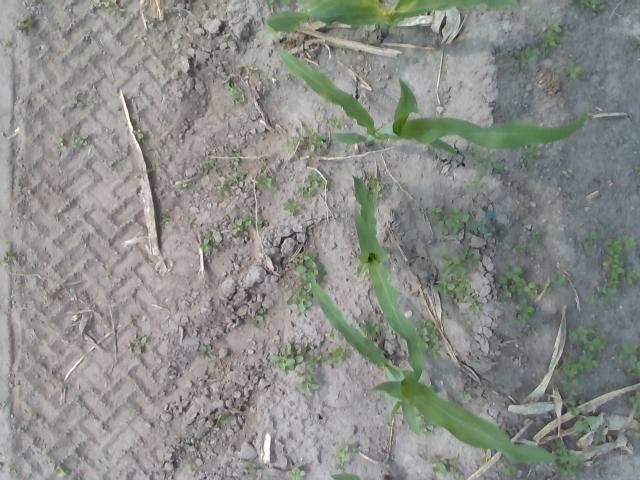Maize: (306, 268, 606, 463), (268, 39, 589, 158), (341, 162, 427, 422), (262, 0, 540, 42), (329, 473, 388, 480)
Weeds: (554, 326, 606, 380), (596, 236, 640, 299), (287, 252, 326, 312), (426, 204, 470, 234), (441, 244, 482, 276), (496, 264, 538, 295), (413, 318, 442, 362), (268, 343, 304, 376), (550, 438, 580, 476), (432, 275, 472, 300), (614, 342, 640, 379), (306, 344, 346, 368), (566, 405, 597, 433), (540, 21, 564, 56), (411, 404, 436, 436), (297, 170, 325, 198), (467, 208, 495, 234), (558, 378, 580, 405), (367, 169, 386, 200), (476, 151, 504, 172), (512, 298, 534, 324), (353, 319, 383, 338), (304, 124, 324, 152), (224, 80, 245, 106), (92, 0, 124, 17), (229, 212, 251, 236), (517, 44, 540, 66), (282, 133, 304, 155), (561, 60, 582, 83), (295, 375, 320, 394), (335, 442, 357, 461), (67, 131, 89, 150), (430, 456, 450, 476), (418, 377, 440, 395), (48, 460, 70, 478), (627, 388, 640, 418), (520, 143, 540, 162), (282, 197, 302, 216), (528, 226, 546, 246), (198, 229, 214, 251), (576, 0, 606, 11), (226, 146, 241, 168), (256, 172, 274, 190), (500, 460, 520, 476), (208, 413, 229, 428), (450, 456, 462, 480), (240, 458, 258, 474), (456, 386, 474, 402), (286, 466, 306, 480), (226, 172, 246, 186), (16, 16, 30, 36), (468, 174, 483, 192), (250, 306, 266, 322), (467, 296, 482, 313), (201, 158, 218, 172), (512, 241, 529, 254), (585, 230, 599, 245), (132, 336, 146, 351), (623, 427, 640, 439), (539, 280, 551, 297), (466, 146, 480, 160), (552, 274, 568, 286), (198, 343, 212, 356), (329, 114, 344, 126), (462, 317, 474, 332), (242, 63, 258, 74), (174, 182, 188, 194), (132, 128, 144, 142), (326, 328, 338, 341), (56, 136, 66, 151), (584, 292, 596, 304), (216, 180, 226, 194), (264, 0, 290, 5), (4, 251, 18, 260), (396, 182, 408, 192), (365, 36, 377, 46), (79, 24, 94, 32), (286, 71, 295, 82), (187, 216, 196, 226), (256, 218, 264, 227), (160, 216, 170, 223), (0, 39, 10, 46), (182, 443, 192, 449), (250, 422, 259, 428), (634, 162, 640, 170)
